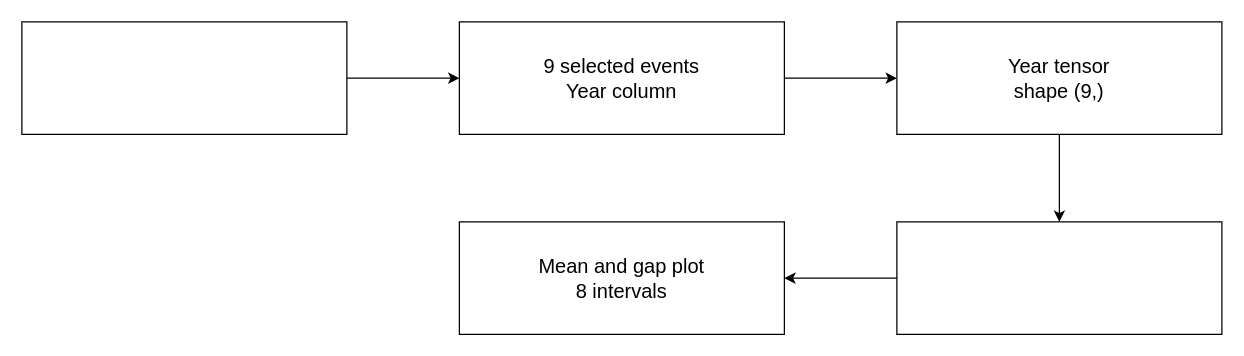
Image size: 1244x356. Some labels were removed from this diagram. The shapes that lost their labels are listed below. From the top down, each one's centre as x and y in pixels, then its label:
pixel 184 77: Versions and device random seed 42
pixel 1059 277: Consecutive gaps shape (8,)
